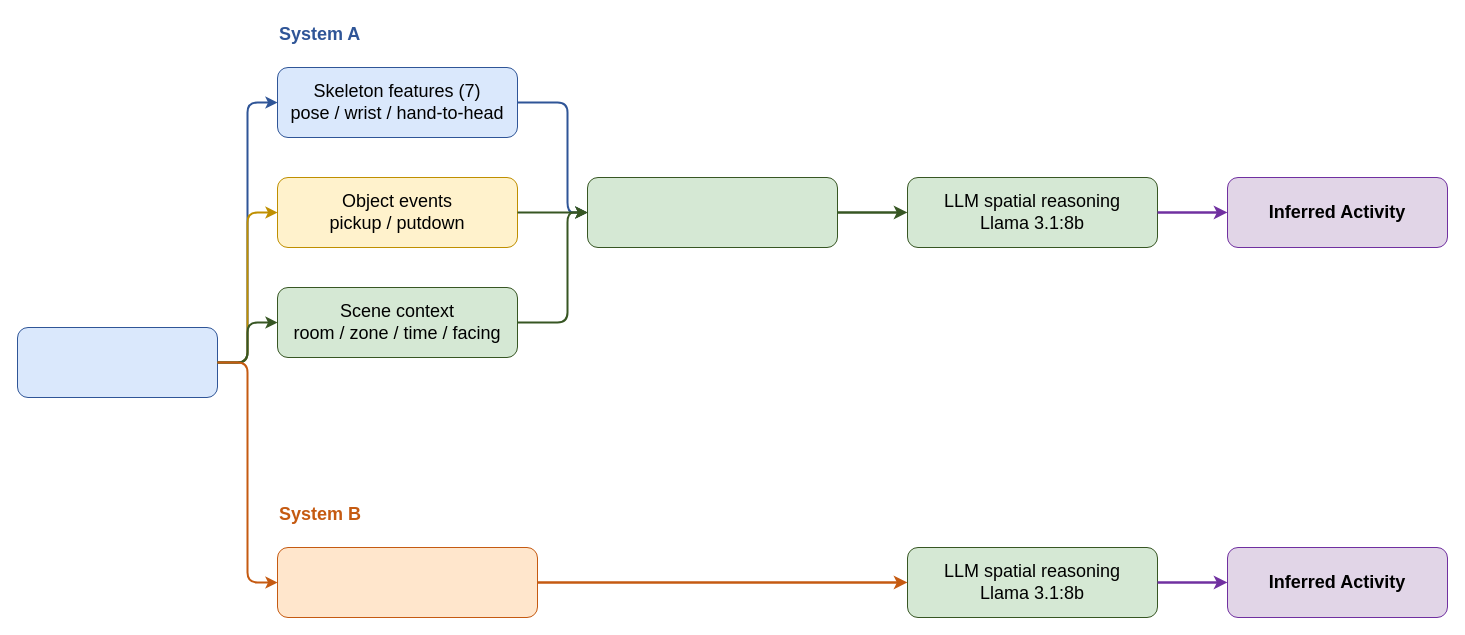
Some shapes in this 1465 by 635 pixel diagram are drawn without their labels. Here are the shapes that lost their labels. From the top down, the box of each, then its label:
(586, 176, 838, 248): build_scene_text() scene description
(16, 326, 218, 398): Fixed Camera (Unity virtual cameras)
(276, 546, 538, 618): VLM + SoM Gemma3:4b
